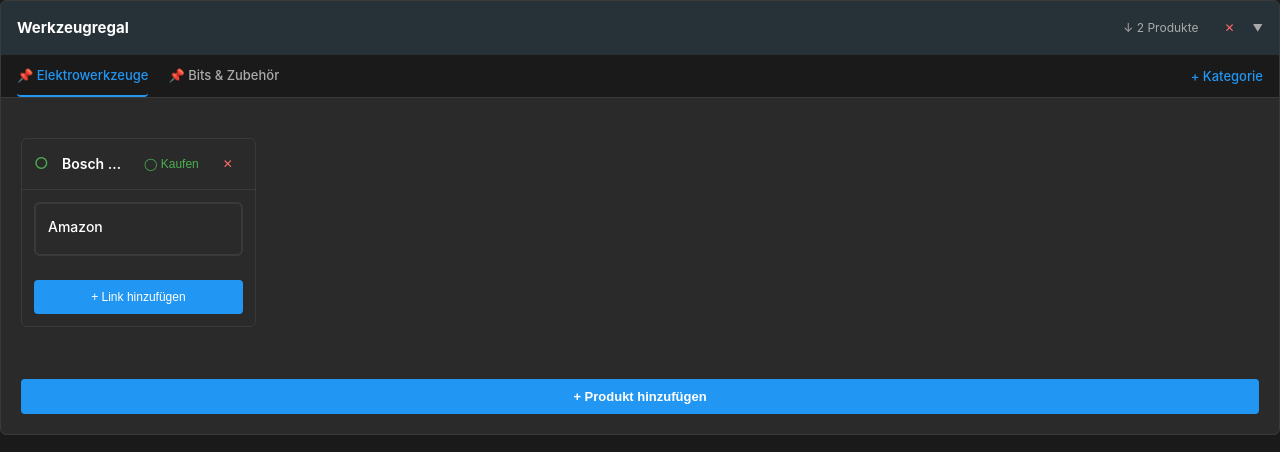
it: MainPointCard › collapses when header clicked
Click the button with class "main-point-header" at (73, 28), box [1, 1, 1279, 55]
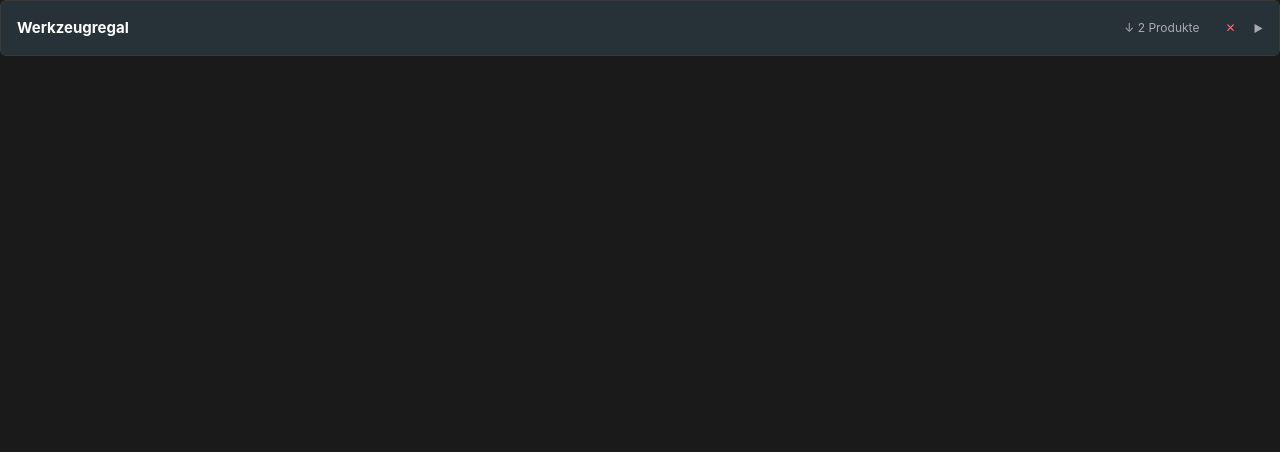
Check: the element with class "category-tabs" is gone
